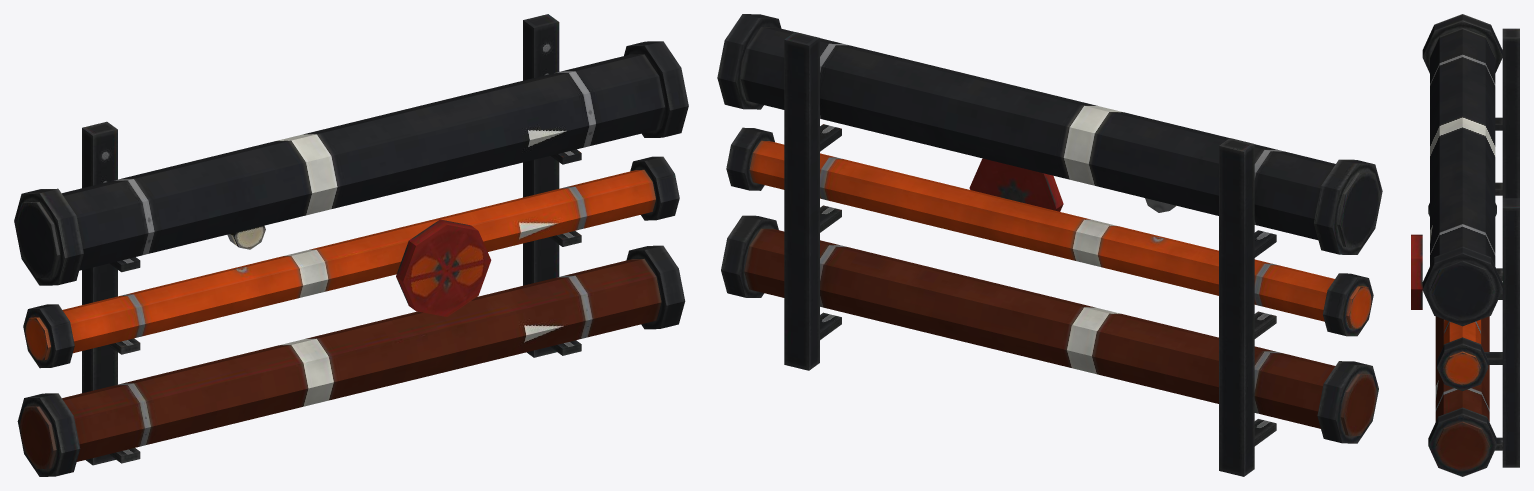
Rendered from pipe_run.glb.
3 views of the same model, side by side, from view 1: azimuth 30°, elevation 25°; view 2: azimuth 150°, elevation 25°; view 3: azimuth 270°, elevation 25° (orthographic). The views are drawn at different scales.
Visible parts, largest first — view 1: pipe_run; view 2: pipe_run; view 3: pipe_run.
Boxes of the visible parts, x1,y1,x2,y2 form: pipe_run: (14,14,688,476); pipe_run: (717,14,1382,476); pipe_run: (1411,14,1519,476).
Size of the model in its own units: 2 by 1 by 0.38.
Materials: 1 (1 with a texture image).
